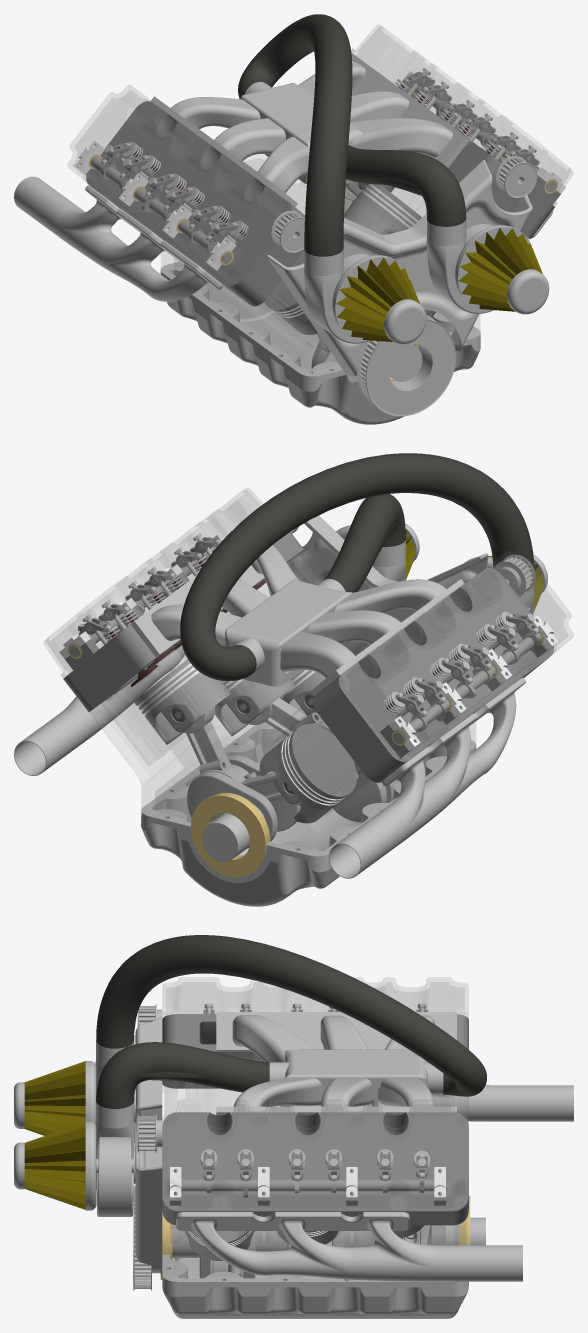
The picture shows the model from 3 angles, top to bottom: view 1: azimuth 30°, elevation 25°; view 2: azimuth 150°, elevation 25°; view 3: azimuth 270°, elevation 25°; orthographic projection. The views are drawn at different scales.
Parts seen in each view (by area): view 1: Car 2-Turbo V6 Engine Asembly Designing; view 2: Car 2-Turbo V6 Engine Asembly Designing; view 3: Car 2-Turbo V6 Engine Asembly Designing.
Part boxes in pixels (bbox=[...]): Car 2-Turbo V6 Engine Asembly Designing: bbox=[14, 14, 573, 424]; Car 2-Turbo V6 Engine Asembly Designing: bbox=[14, 453, 573, 906]; Car 2-Turbo V6 Engine Asembly Designing: bbox=[14, 935, 573, 1318].
Size of the model in its own units: 1.85 by 1.69 by 2.39.
